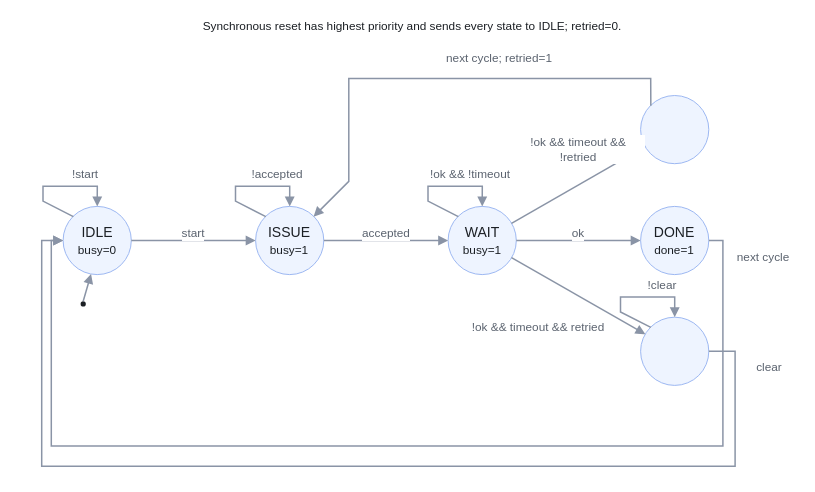
Image size: 815x492. Some labels were removed from this diagram. The centre of each missing label's shape, as x and y in pixels:
"ERROR error=1" goes at (x=674, y=350).
"RETRY busy=1" goes at (x=674, y=129).
